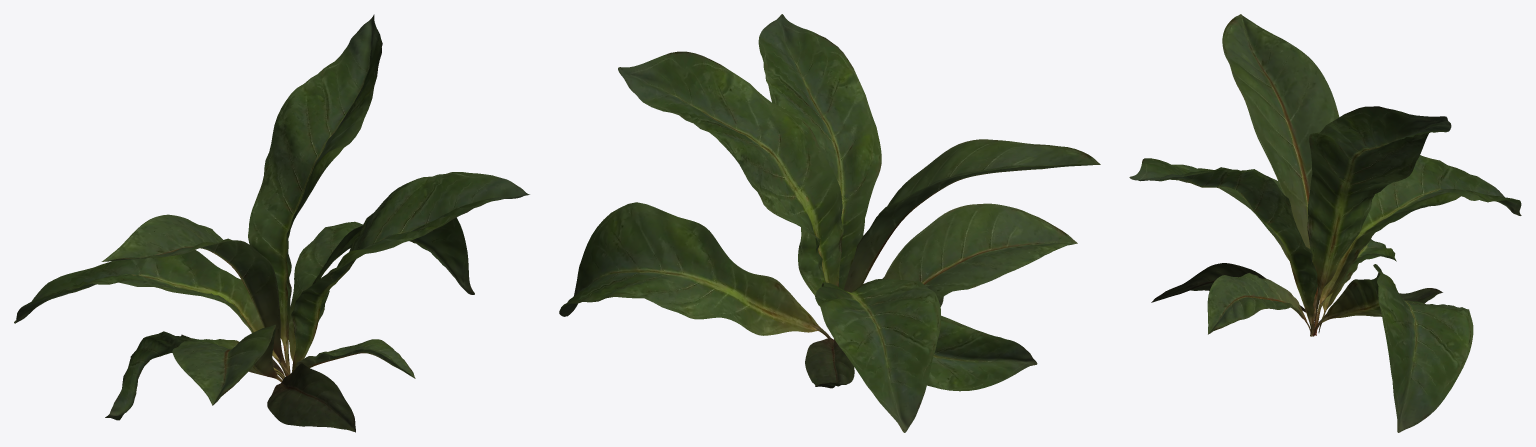
The model's file is anthurium_botany_01.glb.
3 renders of one model, left to right at view 1: azimuth 30°, elevation 25°; view 2: azimuth 150°, elevation 25°; view 3: azimuth 270°, elevation 25°, orthographic.
Parts seen in each view (by area): view 1: anthurium_botany_01_b; view 2: anthurium_botany_01_b; view 3: anthurium_botany_01_b.
Part boxes in pixels (x1,y1,x2,y2): anthurium_botany_01_b: (14,14,529,432); anthurium_botany_01_b: (559,14,1100,432); anthurium_botany_01_b: (1129,14,1521,432).
Bounding box in the file's own units: 0.7567 × 0.4718 × 0.5717.
1 material, 1 textured.
